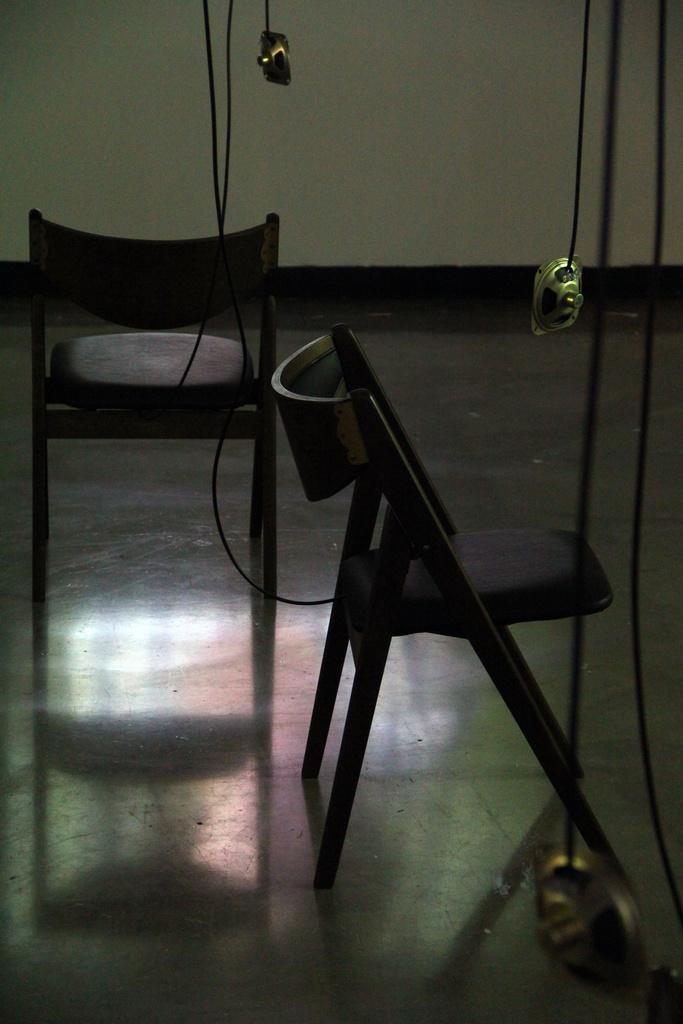Chair: (267, 316, 632, 893), (17, 154, 288, 694)
